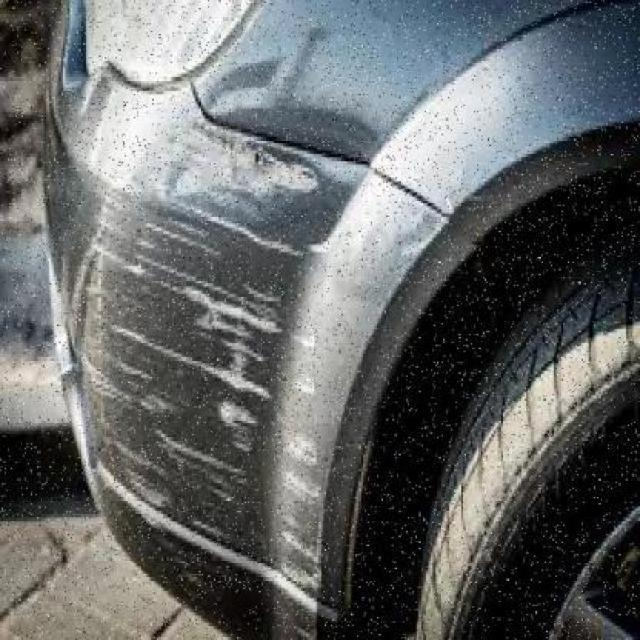front-bumper-dent: (31, 137, 443, 637)
